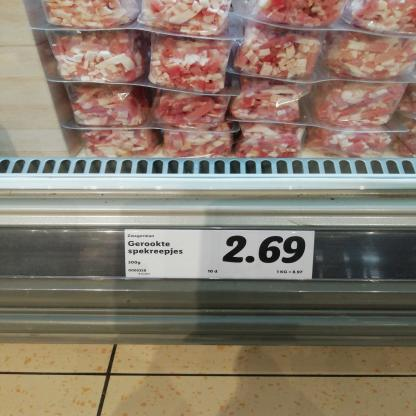prtg: (125, 230, 316, 281)
